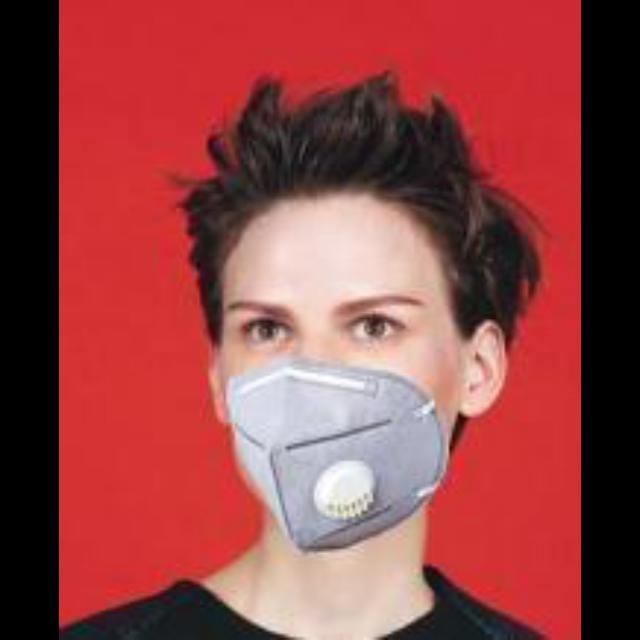suspicion: (216, 200, 492, 568)
